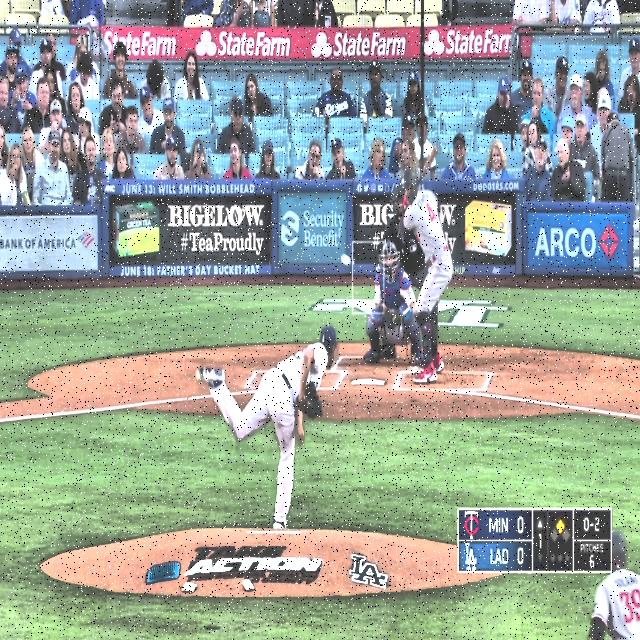baseball: (341, 253, 351, 268)
